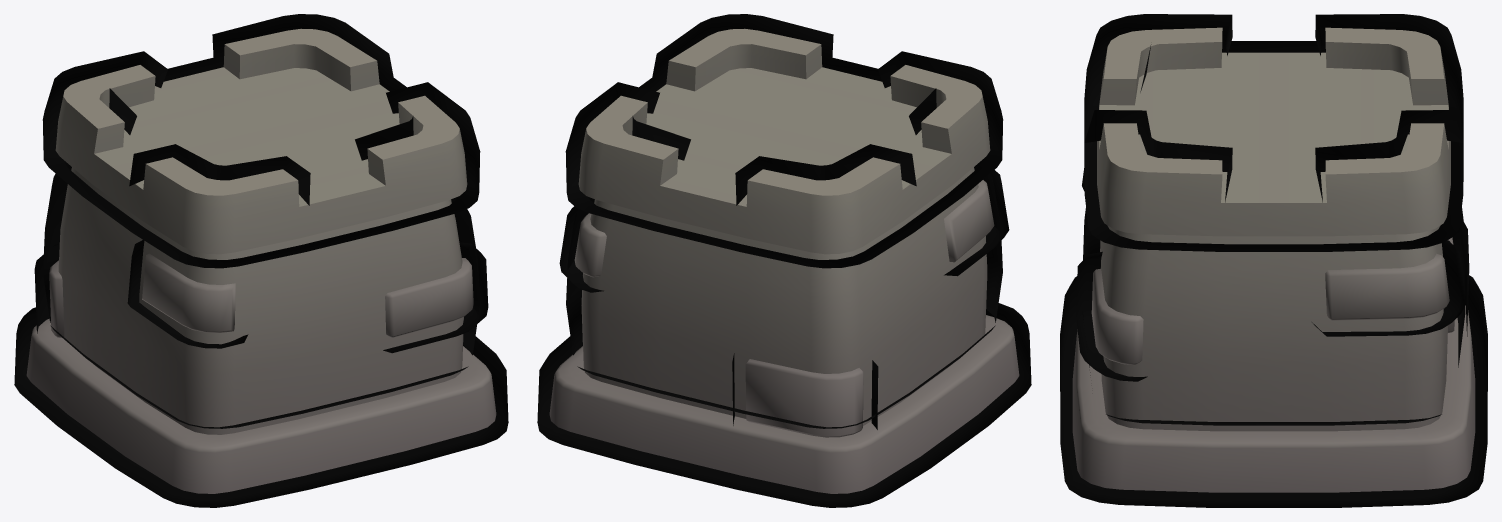
File: mageTower_lvl1_backFaceMesh.fbx
3 renders of one model, left to right at view 1: azimuth 30°, elevation 25°; view 2: azimuth 150°, elevation 25°; view 3: azimuth 270°, elevation 25°, orthographic. The views are drawn at different scales.
Visible parts, largest first — view 1: mageTower_lvl1, mageTower_lvl1_backFace; view 2: mageTower_lvl1, mageTower_lvl1_backFace; view 3: mageTower_lvl1, mageTower_lvl1_backFace.
Boxes of the visible parts, <box> form: mageTower_lvl1: <box>26,28,496,493</box>; mageTower_lvl1_backFace: <box>14,14,508,507</box>; mageTower_lvl1: <box>549,28,1019,493</box>; mageTower_lvl1_backFace: <box>537,14,1031,507</box>; mageTower_lvl1: <box>1072,27,1475,492</box>; mageTower_lvl1_backFace: <box>1060,14,1487,507</box>.
Bounding box in the file's own units: 171 × 144 × 168.
